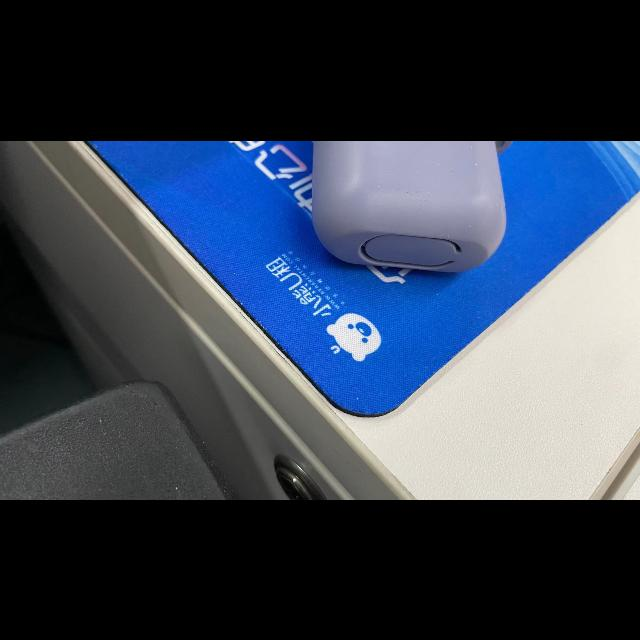airpods: (312, 140, 508, 273)
